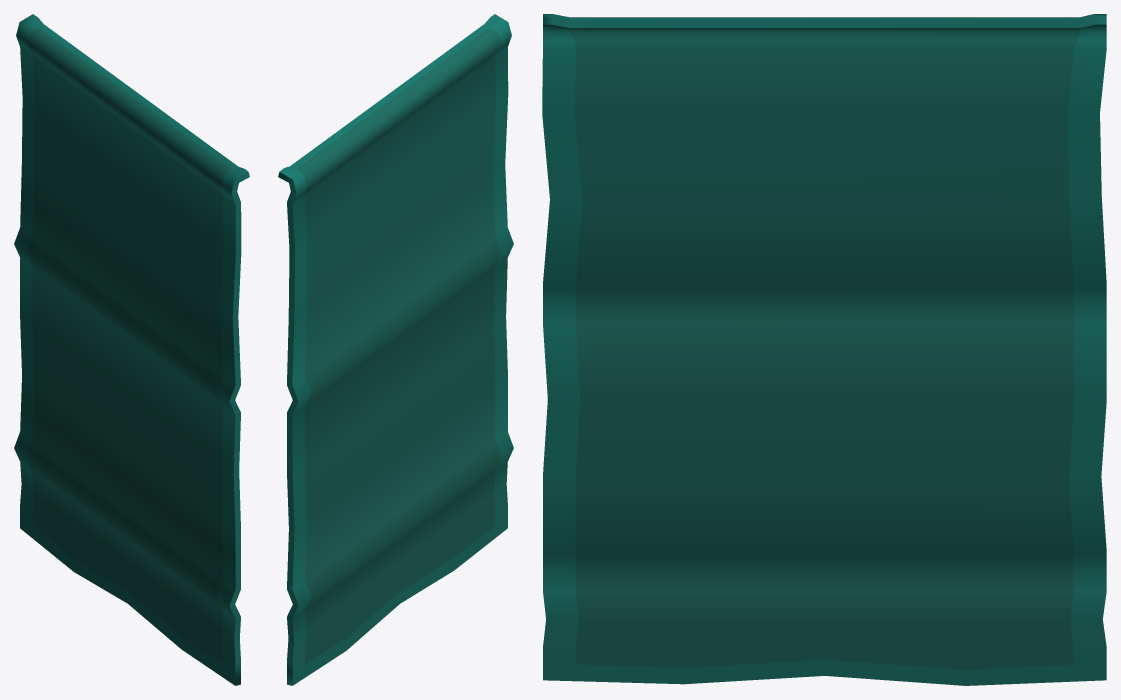
Rendered from Scaffold_sheet_1_6.fbx.
The picture shows the model from 3 angles, left to right: view 1: azimuth 30°, elevation 25°; view 2: azimuth 150°, elevation 25°; view 3: azimuth 270°, elevation 25°; orthographic projection. The views are drawn at different scales.
Visible parts, largest first — view 1: Scaffold_sheet_1_6; view 2: Scaffold_sheet_1_6; view 3: Scaffold_sheet_1_6.
Boxes of the visible parts, bbox=[...] form: Scaffold_sheet_1_6: bbox=[14, 14, 249, 685]; Scaffold_sheet_1_6: bbox=[278, 14, 513, 685]; Scaffold_sheet_1_6: bbox=[542, 14, 1106, 685].
Size of the model in its own units: 10.1 by 242 by 184.
